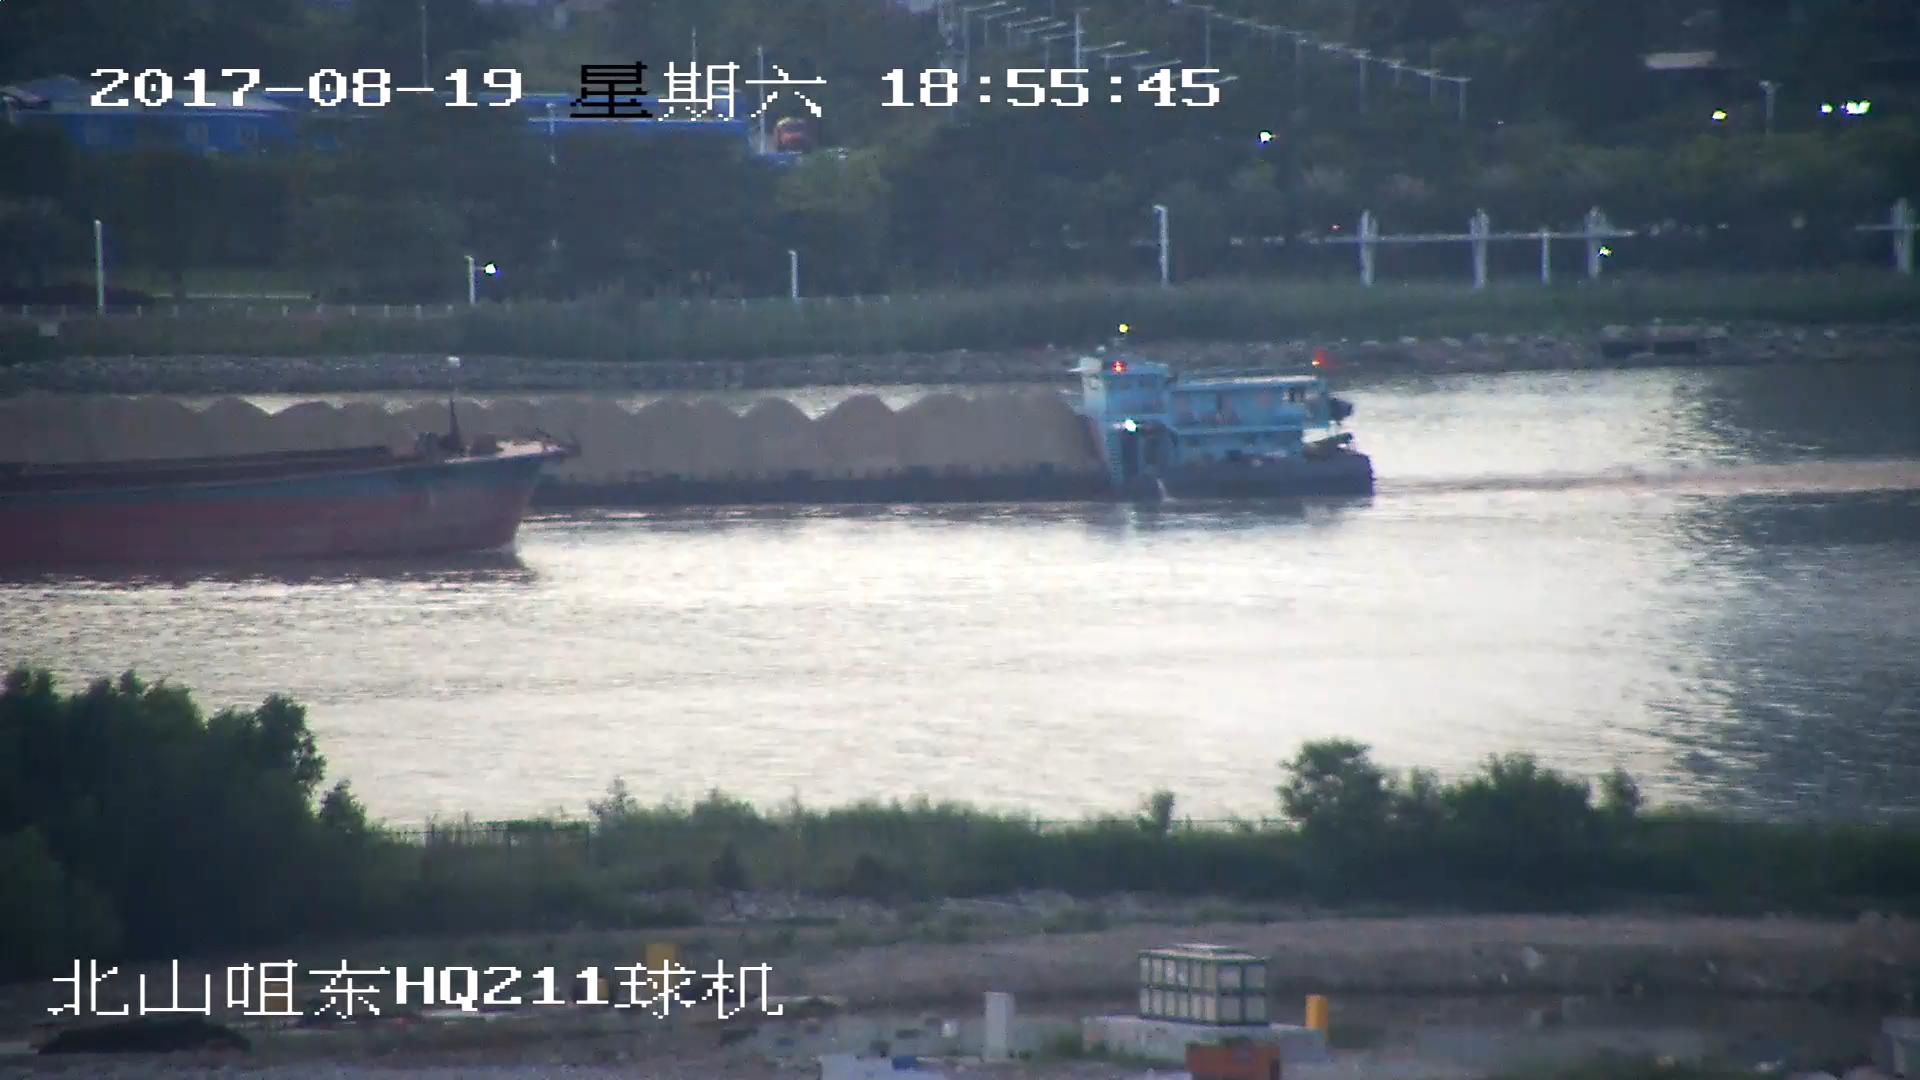bulk cargo carrier: (1, 420, 559, 561)
ore carrier: (1, 354, 1371, 504)
